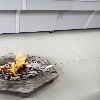fire: (0, 50, 28, 77)
